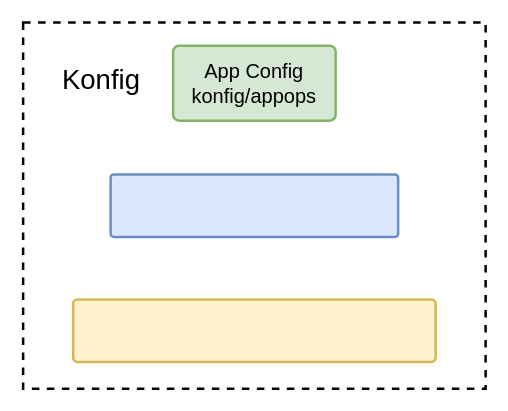
Some shapes in this 508 by 411 pixel diagram are drawn without their labels. Here are the shapes that lost their labels. From the top down, the box of each, then its label:
(109, 172, 399, 238): Core Models konfig/base/kusion_models
(71, 298, 436, 362): Low Level Models konfig/base/{kubernetes,promethes}
